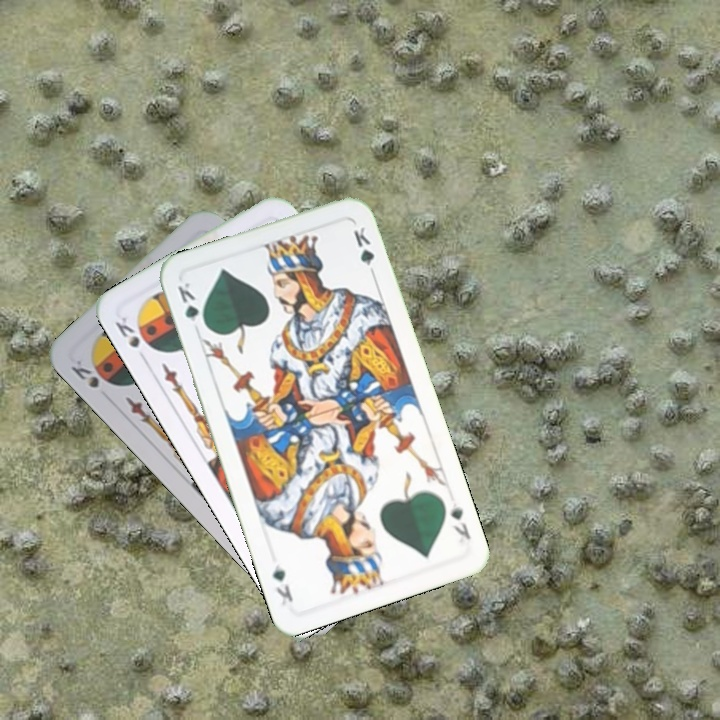GK: (173, 278, 209, 332), (446, 499, 473, 546)
SK: (111, 312, 150, 365), (66, 355, 117, 391)
